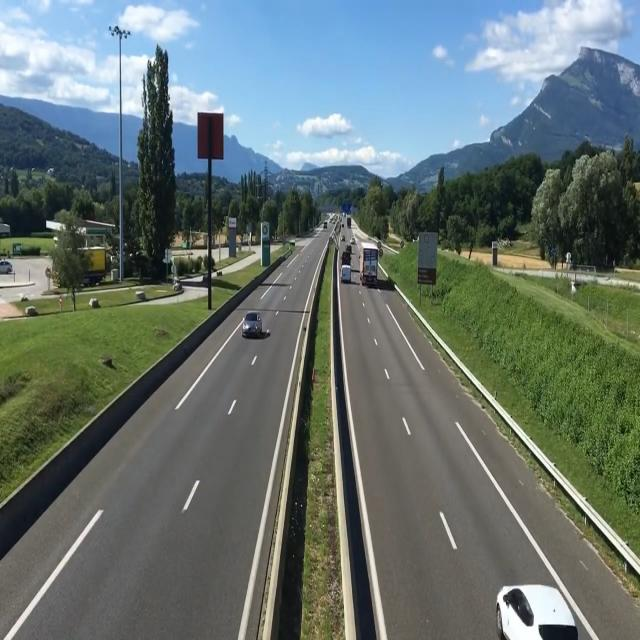car: (492, 579, 589, 640), (241, 309, 267, 340), (339, 260, 353, 284)
truck: (359, 244, 382, 288)
